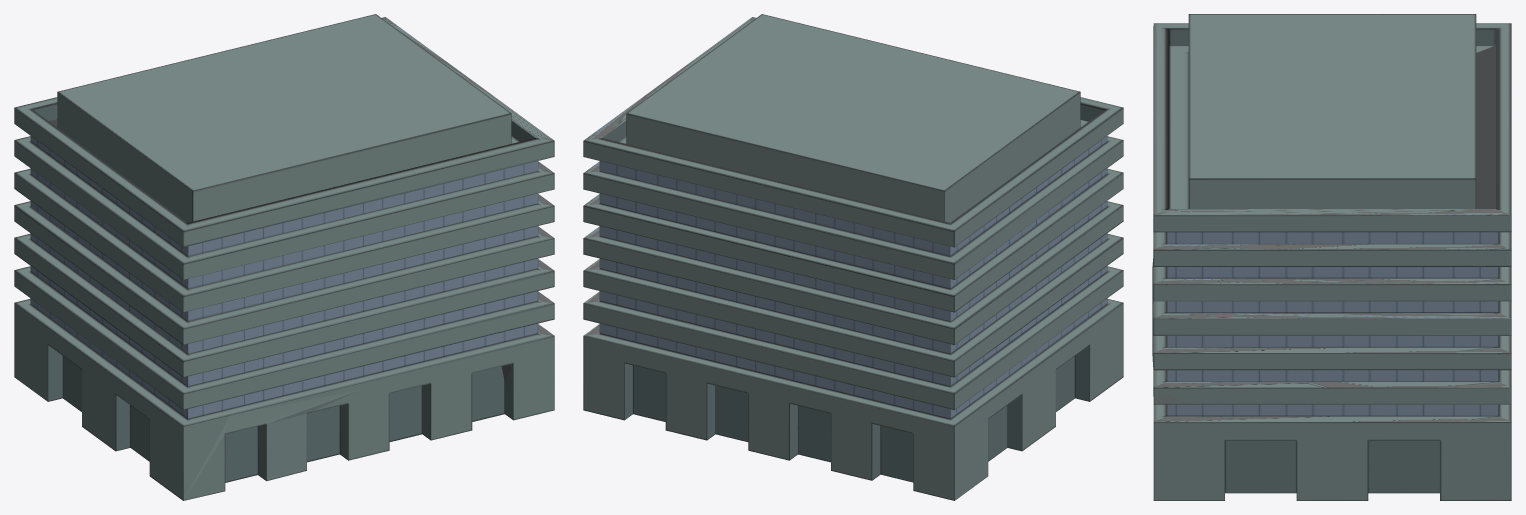
Rendered from 4uvstxtfrag.FBX.
3 views of the same model, side by side, from view 1: azimuth 30°, elevation 25°; view 2: azimuth 150°, elevation 25°; view 3: azimuth 270°, elevation 25° (orthographic). The views are drawn at different scales.
Visible parts, largest first — view 1: __Box001_Part_5, __Box001_Part_27, __Box001_Part_8, __Box001_Part_25, __Box001_Part_16, __Box001_Part_21, __Box001_Part_30, __Box001_Part_7, __Box001_Part_28, __Box001_Part_24, __Box001_Part_13, __Box001_Part_18 (+6 smaller); view 2: __Box001_Part_16, __Box001_Part_6, __Box001_Part_15, __Box001_Part_22, __Box001_Part_27, __Box001_Part_21, __Box001_Part_7, __Box001_Part_20, __Box001_Part_28, __Box001_Part_8, __Box001_Part_12, __Box001_Part_18 (+6 smaller); view 3: __Box001_Part_12, __Box001_Part_13, __Box001_Part_3, __Box001_Part_5, __Box001_Part_16, __Box001_Part_29, __Box001_Part_6, __Box001_Part_14, __Box001_Part_7, __Box001_Part_27, __Box001_Part_18.
Part boxes in pixels (left/top/right/bottom): __Box001_Part_5: left=313, top=106, right=554, bottom=306; __Box001_Part_27: left=65, top=153, right=358, bottom=292; __Box001_Part_8: left=119, top=269, right=341, bottom=442; __Box001_Part_25: left=353, top=302, right=524, bottom=456; __Box001_Part_16: left=14, top=56, right=291, bottom=231; __Box001_Part_21: left=57, top=231, right=171, bottom=481; __Box001_Part_30: left=157, top=390, right=363, bottom=500; __Box001_Part_7: left=69, top=104, right=325, bottom=212; __Box001_Part_28: left=16, top=222, right=90, bottom=432; __Box001_Part_24: left=231, top=291, right=383, bottom=409; __Box001_Part_13: left=492, top=258, right=554, bottom=417; __Box001_Part_18: left=288, top=74, right=454, bottom=128; __Box001_Part_16: left=797, top=100, right=1012, bottom=300; __Box001_Part_6: left=583, top=106, right=810, bottom=275; __Box001_Part_15: left=751, top=276, right=980, bottom=438; __Box001_Part_22: left=637, top=248, right=846, bottom=422; __Box001_Part_27: left=937, top=58, right=1123, bottom=274; __Box001_Part_21: left=989, top=250, right=1112, bottom=444; __Box001_Part_7: left=855, top=62, right=1039, bottom=255; __Box001_Part_20: left=751, top=420, right=971, bottom=500; __Box001_Part_28: left=944, top=289, right=1030, bottom=488; __Box001_Part_8: left=1043, top=146, right=1123, bottom=331; __Box001_Part_12: left=583, top=194, right=652, bottom=360; __Box001_Part_18: left=771, top=38, right=891, bottom=110; __Box001_Part_12: left=1170, top=280, right=1511, bottom=435; __Box001_Part_13: left=1153, top=332, right=1511, bottom=500; __Box001_Part_3: left=1259, top=123, right=1498, bottom=286; __Box001_Part_5: left=1153, top=85, right=1261, bottom=347; __Box001_Part_16: left=1326, top=14, right=1511, bottom=125; __Box001_Part_29: left=1183, top=133, right=1357, bottom=291; __Box001_Part_6: left=1376, top=90, right=1511, bottom=308; __Box001_Part_14: left=1225, top=440, right=1511, bottom=500; __Box001_Part_7: left=1200, top=14, right=1376, bottom=96; __Box001_Part_27: left=1153, top=14, right=1290, bottom=126; __Box001_Part_18: left=1234, top=94, right=1379, bottom=160.
Size of the model in its own units: 4.67 by 3.5 by 3.69.
1 material, 1 textured.
